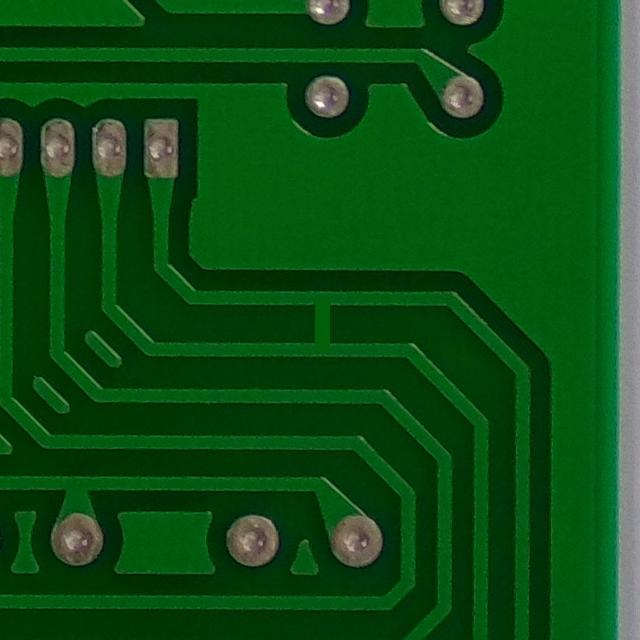short: (290, 272, 350, 368)
